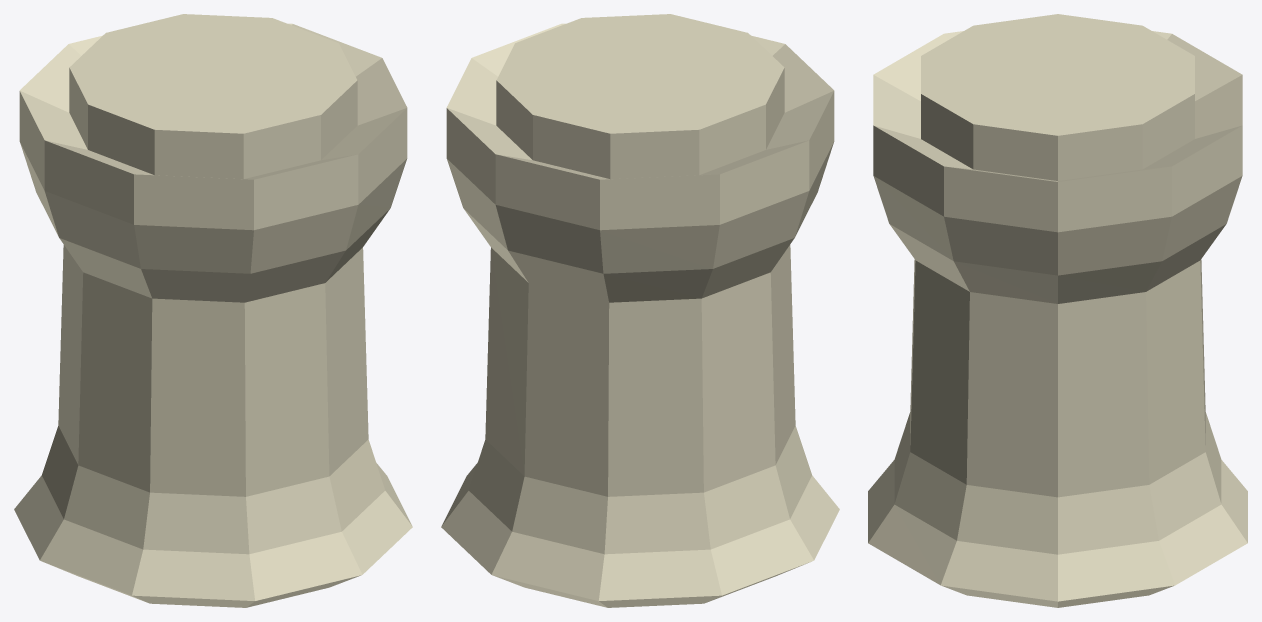
File: rook.obj
3 views of the same model, side by side, from view 1: azimuth 30°, elevation 25°; view 2: azimuth 150°, elevation 25°; view 3: azimuth 270°, elevation 25° (orthographic).
Bounding box in the file's own units: 0.72 × 0.93 × 0.6848.
